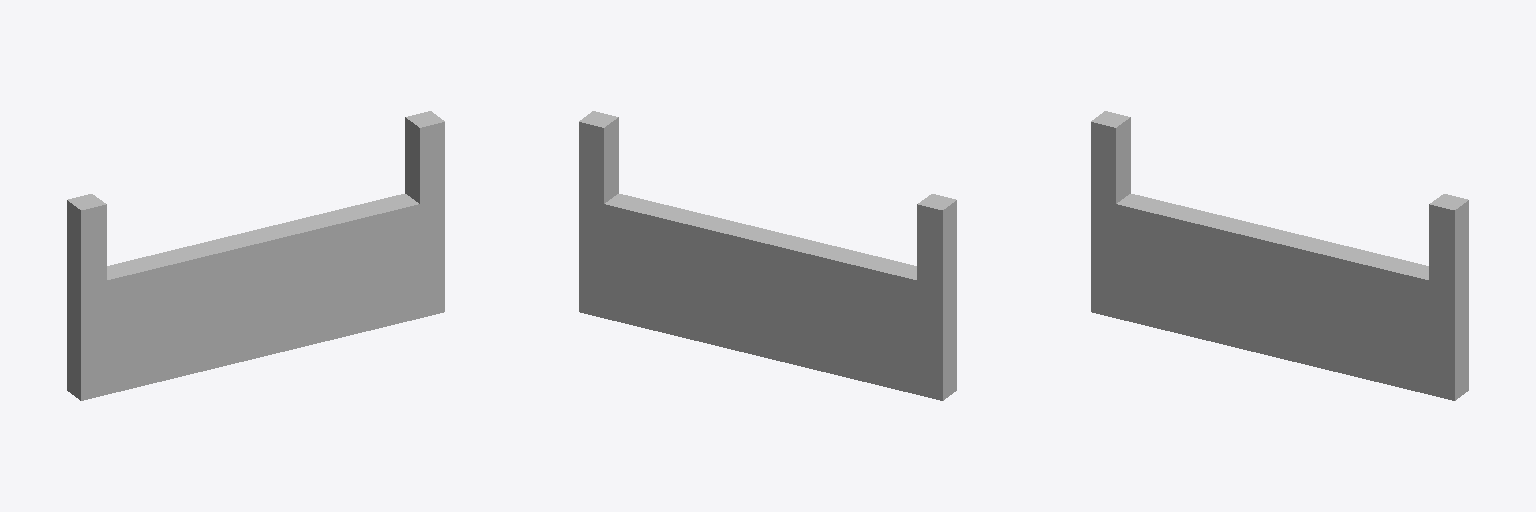
Rendered from wall-type-b.obj.
3 renders of one model, left to right at view 1: azimuth 30°, elevation 25°; view 2: azimuth 150°, elevation 25°; view 3: azimuth 330°, elevation 25°, orthographic.
Parts seen in each view (by area): view 1: wall-type-b; view 2: wall-type-b; view 3: wall-type-b.
Boxes of the visible parts, x1=… form: wall-type-b: x1=67, y1=111, x2=444, y2=400; wall-type-b: x1=579, y1=111, x2=956, y2=400; wall-type-b: x1=1091, y1=111, x2=1468, y2=400.
Bounding box in the file's own units: 1 × 0.5 × 0.07.